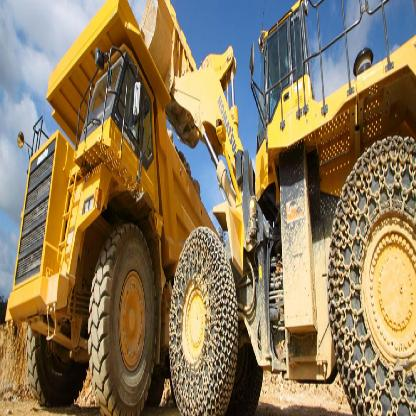bull_dozer/loader/grader: (143, 0, 413, 412)
